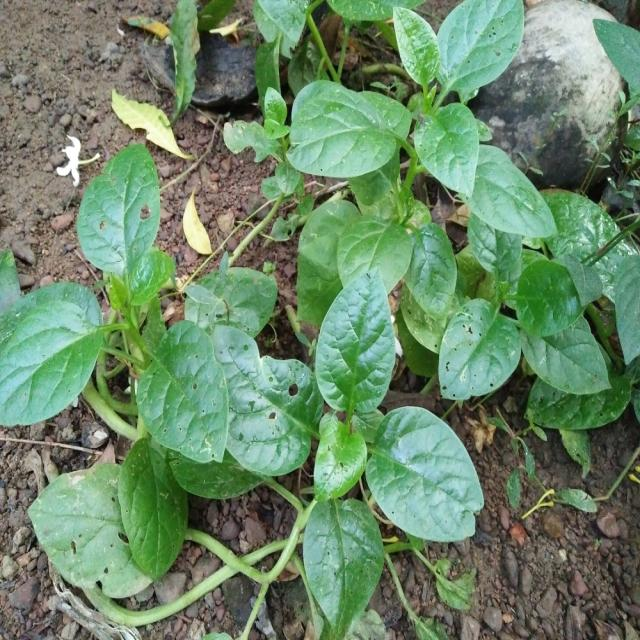Medicinal-Basale: (2, 140, 484, 622), (262, 14, 506, 402), (449, 222, 634, 426)
